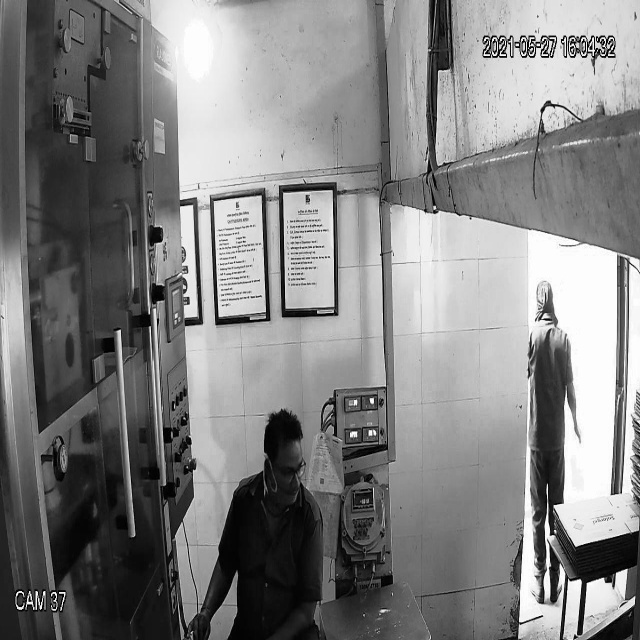Gafas: (265, 452, 310, 488)
